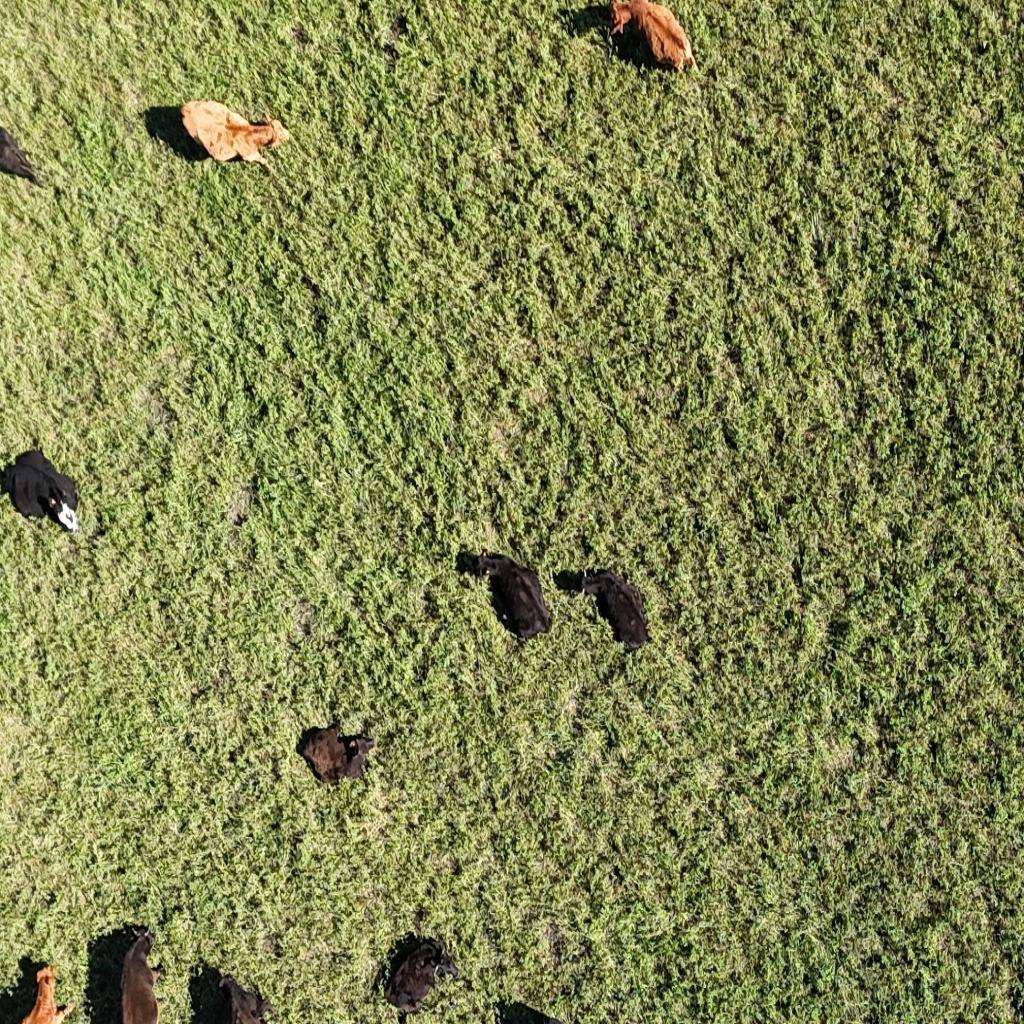cow: (168, 98, 287, 173), (462, 545, 552, 644), (2, 438, 86, 542), (570, 565, 652, 656), (380, 934, 459, 1018), (606, 1, 694, 75), (298, 719, 378, 789), (190, 962, 278, 1024), (119, 924, 164, 1024), (16, 962, 78, 1024), (0, 117, 45, 186)
